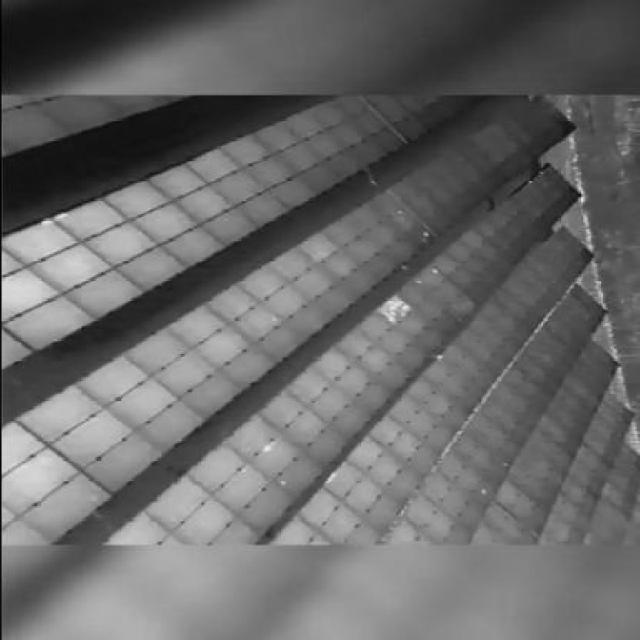hotspot: (384, 314, 398, 323), (260, 444, 272, 453), (278, 478, 288, 487), (476, 488, 489, 494), (396, 312, 409, 316), (409, 278, 422, 282), (383, 299, 392, 304), (433, 355, 442, 359), (399, 306, 408, 308), (432, 270, 438, 273)
